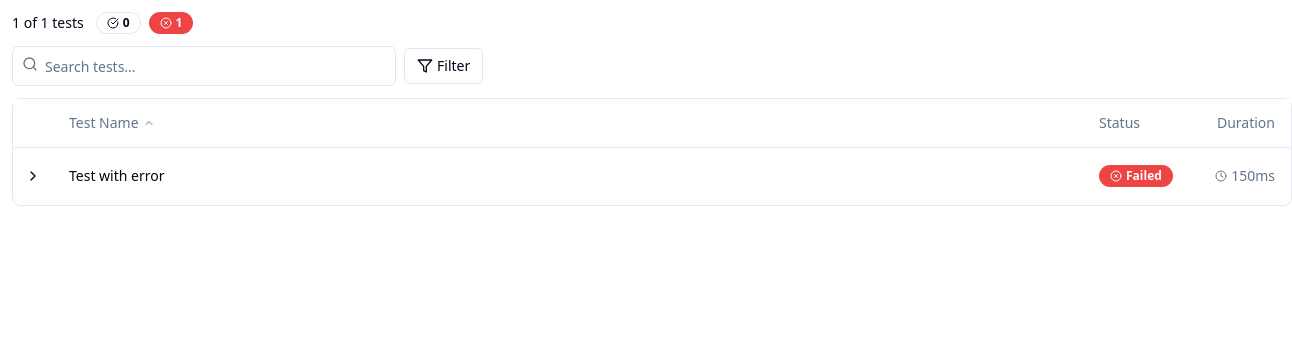
Scenario: TestResultsTable › Row Expansion › collapses row when clicked again
What coordinates should you click on to do the following:
click the text "Test with error"
I would click on:
 (117, 176)
Its box is x1=13 y1=147 x2=1291 y2=204.
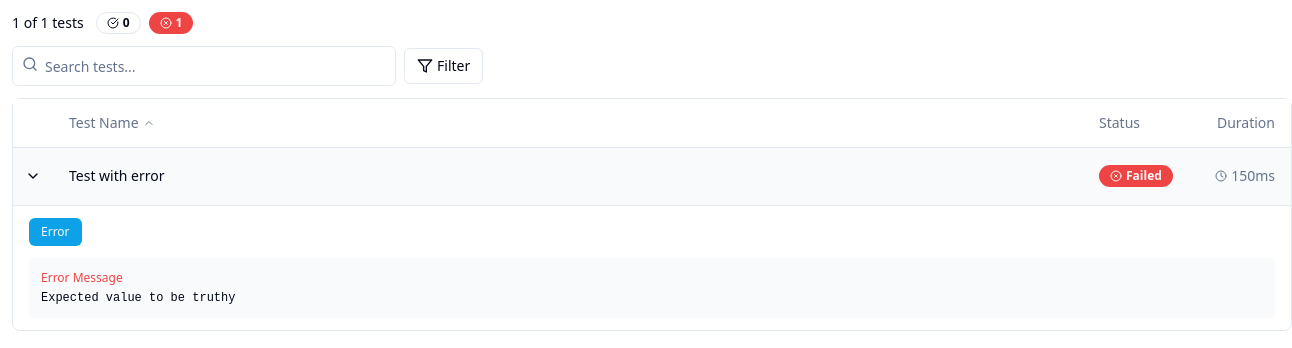
Expected: the text "Expected value to be truthy" is shown, x1=41 y1=290 x2=235 y2=304
// Collapse - click the main row again (not the expanded content row)
What coordinates should you click on to do the following:
click the text "Test with error"
I would click on:
 (652, 176)
Its box is x1=13 y1=147 x2=1291 y2=205.
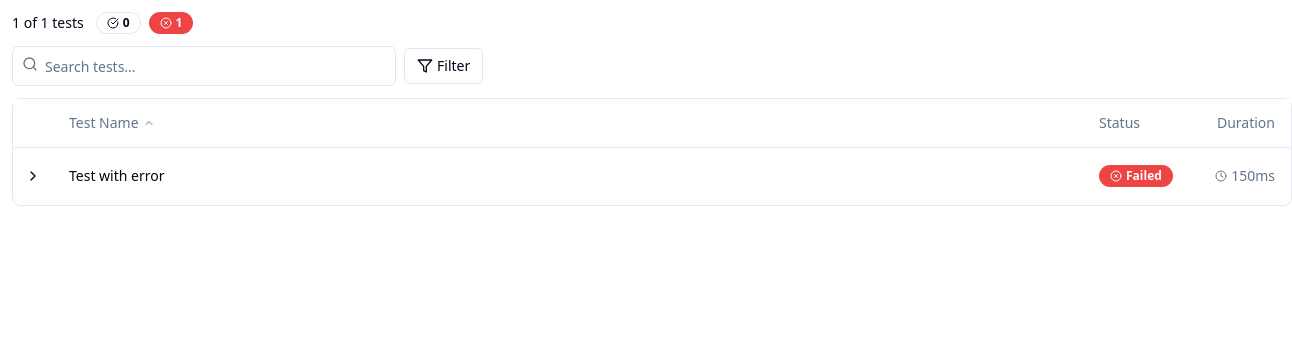
Expected: the text "Expected value to be truthy" is gone
